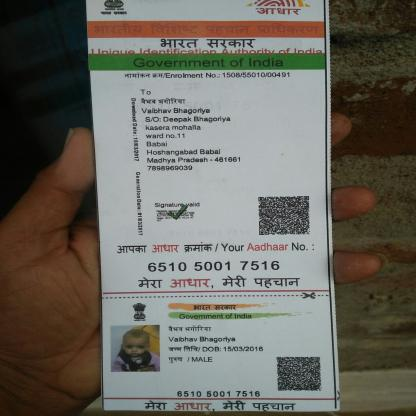aadhaar_card: (82, 0, 349, 414)
